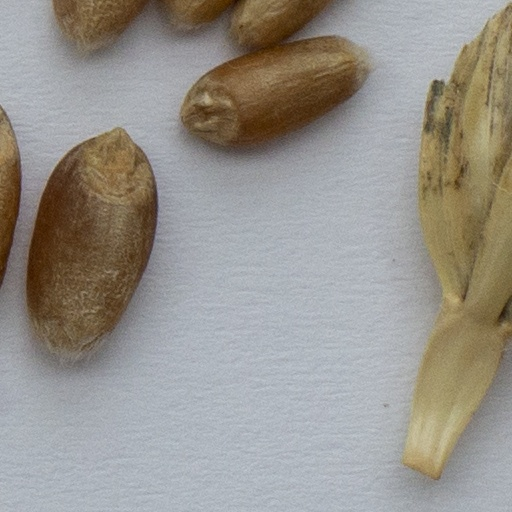Peel-poly: (408, 3, 511, 474)
